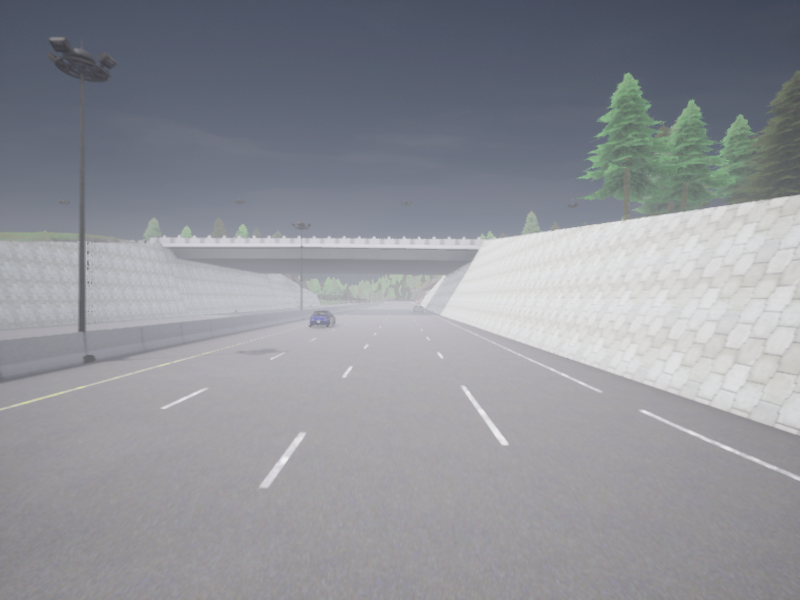vehicle: (310, 310, 335, 326), (413, 305, 422, 312)
